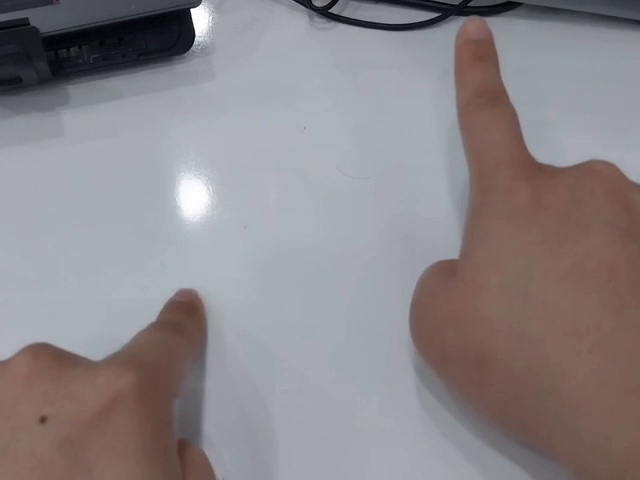fingers: (157, 286, 208, 331), (452, 16, 499, 59)
